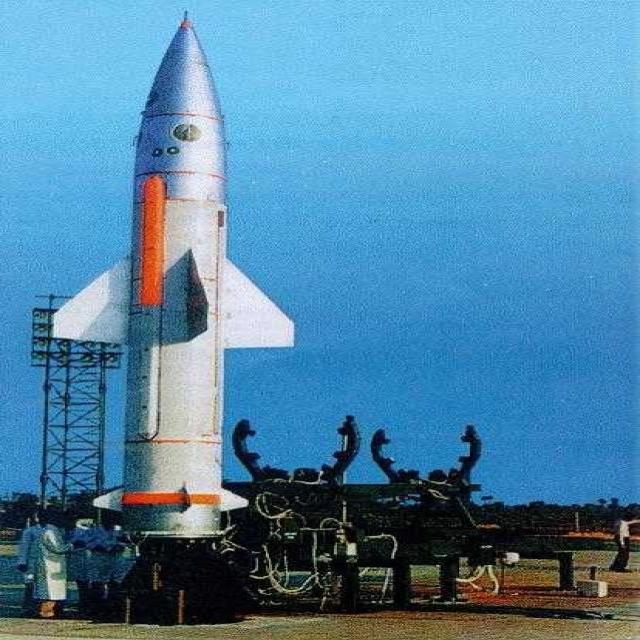missile: (0, 14, 307, 578)
